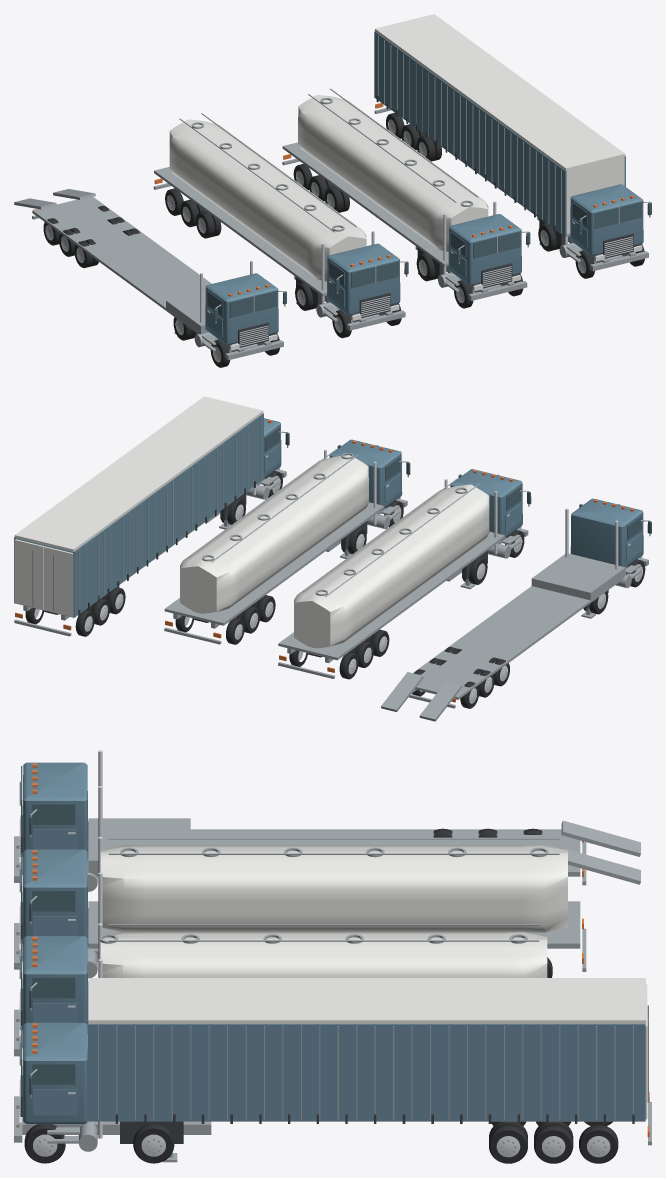
File: long-haul-trucking-and-truck-stop-trailer-connector-ca-d407b523__14031.glb
3 views of the same model, one above another, from view 1: azimuth 30°, elevation 25°; view 2: azimuth 150°, elevation 25°; view 3: azimuth 270°, elevation 25° (orthographic). The views are drawn at different scales.
Parts seen in each view (by area): view 1: 007-curtainsider-trailer/20, 003-fuel-tanker-trailer/20, 005-powder-tanker-trailer/20, 007-curtainsider-trailer/21, 001-lowboy-trailer/18, 003-fuel-tanker-trailer/18, 005-powder-tanker-trailer/18, 007-curtainsider-trailer/18, 002-cabover-day-cab/13, 006-cabover-day-cab/13, 004-cabover-day-cab/13, 000-cabover-day-cab/13 (+15 smaller); view 2: 003-fuel-tanker-trailer/20, 005-powder-tanker-trailer/20, 007-curtainsider-trailer/21, 001-lowboy-trailer/18, 007-curtainsider-trailer/20, 003-fuel-tanker-trailer/18, 005-powder-tanker-trailer/18, 007-curtainsider-trailer/18, 000-cabover-day-cab/13, 007-curtainsider-trailer/rear-door-1, 007-curtainsider-trailer/rear-door--1, 002-cabover-day-cab/13 (+4 smaller); view 3: 007-curtainsider-trailer/21, 003-fuel-tanker-trailer/20, 007-curtainsider-trailer/20, 005-powder-tanker-trailer/20, 001-lowboy-trailer/18, 007-curtainsider-trailer/18, 003-fuel-tanker-trailer/18, 006-cabover-day-cab/13, 002-cabover-day-cab/13, 000-cabover-day-cab/13, 004-cabover-day-cab/13, 005-powder-tanker-trailer/18 (+17 smaller).
Part boxes in pixels (x1=…): 007-curtainsider-trailer/20: x1=375, y1=14, x2=625, y2=234; 003-fuel-tanker-trailer/20: x1=169, y1=119, x2=366, y2=281; 005-powder-tanker-trailer/20: x1=298, y1=95, x2=488, y2=251; 007-curtainsider-trailer/21: x1=374, y1=31, x2=625, y2=237; 001-lowboy-trailer/18: x1=14, y1=189, x2=211, y2=334; 003-fuel-tanker-trailer/18: x1=153, y1=113, x2=356, y2=304; 005-powder-tanker-trailer/18: x1=282, y1=88, x2=478, y2=274; 007-curtainsider-trailer/18: x1=374, y1=35, x2=570, y2=244; 002-cabover-day-cab/13: x1=327, y1=243, x2=400, y2=315; 006-cabover-day-cab/13: x1=570, y1=184, x2=643, y2=256; 004-cabover-day-cab/13: x1=448, y1=214, x2=521, y2=285; 000-cabover-day-cab/13: x1=205, y1=273, x2=278, y2=345; 003-fuel-tanker-trailer/20: x1=294, y1=484, x2=489, y2=648; 005-powder-tanker-trailer/20: x1=180, y1=455, x2=368, y2=613; 007-curtainsider-trailer/21: x1=14, y1=413, x2=263, y2=617; 001-lowboy-trailer/18: x1=381, y1=553, x2=625, y2=721; 007-curtainsider-trailer/20: x1=14, y1=396, x2=263, y2=551; 003-fuel-tanker-trailer/18: x1=278, y1=478, x2=504, y2=678; 005-powder-tanker-trailer/18: x1=164, y1=449, x2=383, y2=644; 007-curtainsider-trailer/18: x1=14, y1=417, x2=261, y2=636; 000-cabover-day-cab/13: x1=570, y1=498, x2=643, y2=567; 007-curtainsider-trailer/rear-door-1: x1=14, y1=539, x2=44, y2=609; 007-curtainsider-trailer/rear-door--1: x1=44, y1=546, x2=73, y2=617; 002-cabover-day-cab/13: x1=450, y1=469, x2=522, y2=539; 007-curtainsider-trailer/21: x1=88, y1=981, x2=645, y2=1121; 003-fuel-tanker-trailer/20: x1=100, y1=845, x2=567, y2=932; 007-curtainsider-trailer/20: x1=88, y1=978, x2=645, y2=1023; 005-powder-tanker-trailer/20: x1=100, y1=932, x2=547, y2=977; 001-lowboy-trailer/18: x1=88, y1=818, x2=640, y2=885; 007-curtainsider-trailer/18: x1=88, y1=1005, x2=651, y2=1162; 003-fuel-tanker-trailer/18: x1=88, y1=837, x2=586, y2=971; 006-cabover-day-cab/13: x1=22, y1=1022, x2=87, y2=1124; 002-cabover-day-cab/13: x1=22, y1=849, x2=88, y2=947; 000-cabover-day-cab/13: x1=22, y1=762, x2=88, y2=860; 004-cabover-day-cab/13: x1=22, y1=936, x2=87, y2=1034; 005-powder-tanker-trailer/18: x1=99, y1=924, x2=539, y2=943.
Bounding box in the file's own units: 18 × 3.9 × 15.56.
